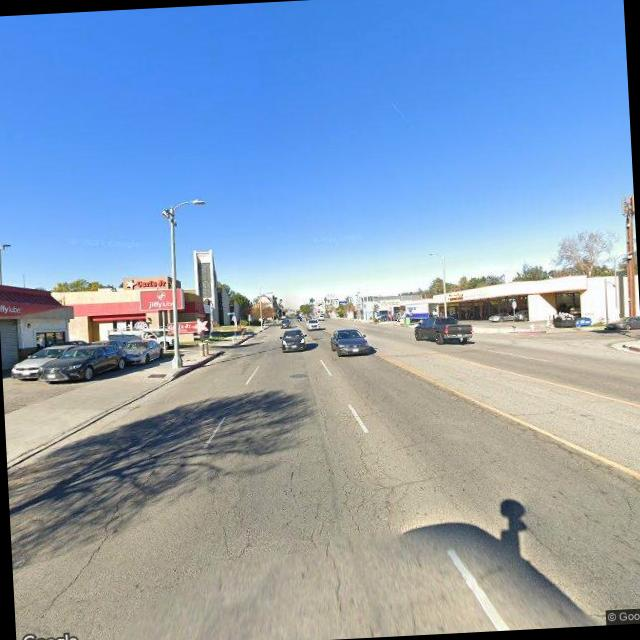crack: (282, 396, 415, 538)
pothole: (31, 456, 161, 612)
